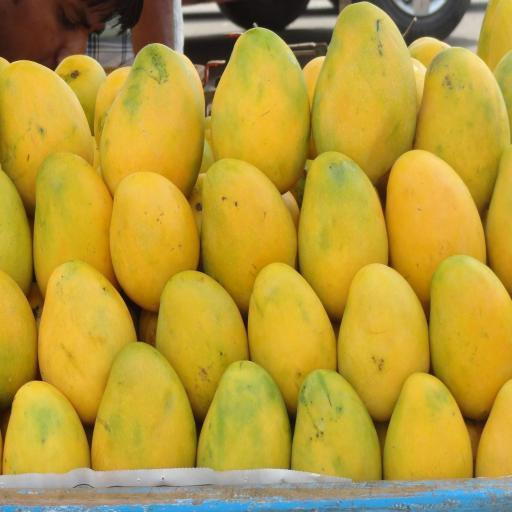mango: (312, 2, 417, 183), (386, 151, 486, 315), (211, 28, 310, 193), (100, 43, 204, 196), (414, 48, 510, 213), (39, 261, 136, 423), (299, 152, 388, 321), (201, 159, 296, 315), (0, 61, 93, 215), (338, 264, 429, 421), (156, 271, 248, 421), (248, 263, 336, 416), (430, 255, 511, 419), (110, 172, 199, 312), (34, 153, 117, 296)
